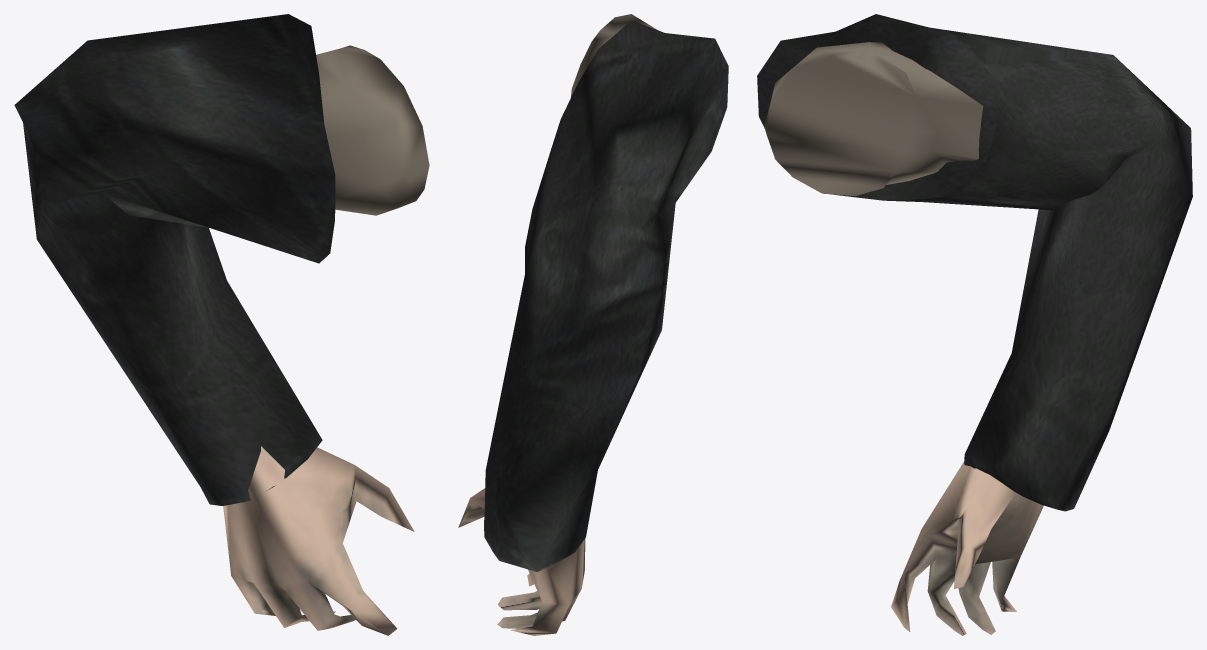
Rendered from dest_nt_nuked_male_03_arm_right_LOD2.obj.
3 renders of one model, left to right at view 1: azimuth 30°, elevation 25°; view 2: azimuth 150°, elevation 25°; view 3: azimuth 270°, elevation 25°, orthographic. The views are drawn at different scales.
Parts seen in each view (by area): view 1: mtl_nt_2020_manne_male01_jacket1, mtl_nt_2020_manne_male01_head1; view 2: mtl_nt_2020_manne_male01_jacket1, mtl_nt_2020_manne_male01_head1; view 3: mtl_nt_2020_manne_male01_jacket1, mtl_nt_2020_manne_male01_head1.
Boxes of the visible parts, bbox=[...] form: mtl_nt_2020_manne_male01_jacket1: bbox=[14, 14, 335, 505]; mtl_nt_2020_manne_male01_head1: bbox=[223, 45, 429, 635]; mtl_nt_2020_manne_male01_jacket1: bbox=[484, 20, 728, 571]; mtl_nt_2020_manne_male01_head1: bbox=[458, 14, 656, 635]; mtl_nt_2020_manne_male01_jacket1: bbox=[757, 14, 1192, 511]; mtl_nt_2020_manne_male01_head1: bbox=[764, 42, 1043, 635].
Size of the model in its own units: 25.29 by 52.57 by 35.59.
